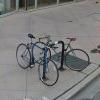Bicycle: (14, 27, 91, 87)
